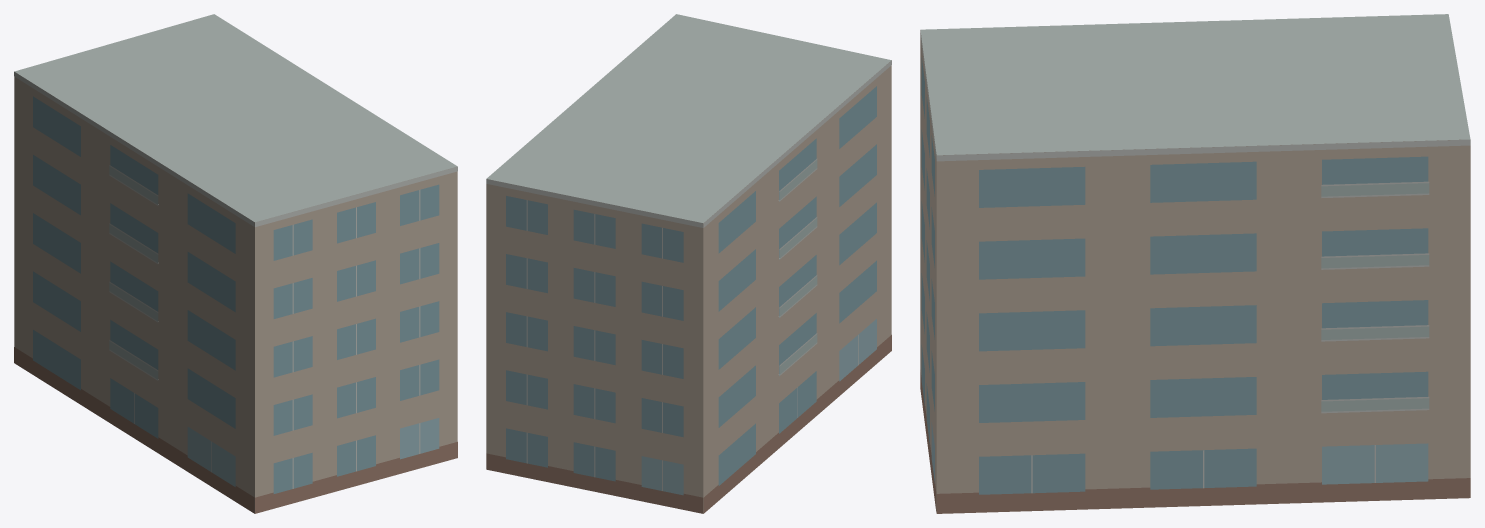
The model's file is survey-upis-32655270.glb.
3 renders of one model, left to right at view 1: azimuth 30°, elevation 25°; view 2: azimuth 150°, elevation 25°; view 3: azimuth 270°, elevation 25°, orthographic. The views are drawn at different scales.
Parts seen in each view (by area): view 1: survey-upis-32655270.tmp; view 2: survey-upis-32655270.tmp; view 3: survey-upis-32655270.tmp.
Part boxes in pixels (left/top/right/bottom): survey-upis-32655270.tmp: left=14, top=14, right=457, bottom=513; survey-upis-32655270.tmp: left=486, top=14, right=891, bottom=513; survey-upis-32655270.tmp: left=920, top=14, right=1470, bottom=513.
Bounding box in the file's own units: 12.18 × 14.4 × 20.03.
